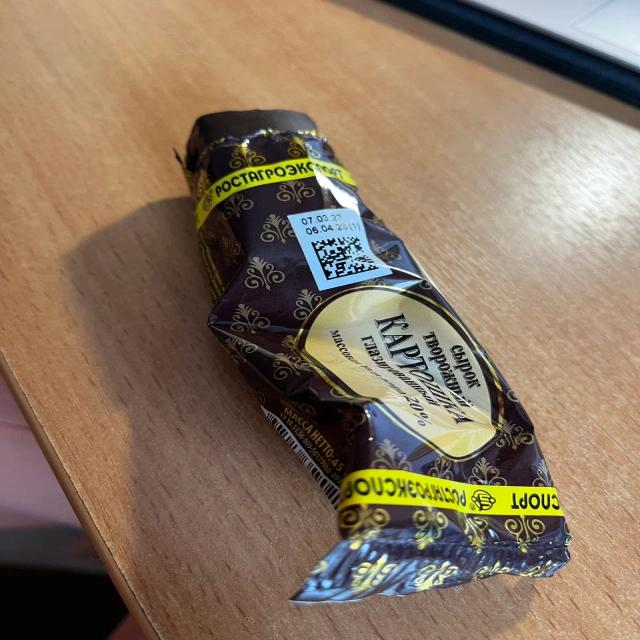datamatrix: (312, 237, 382, 282)
